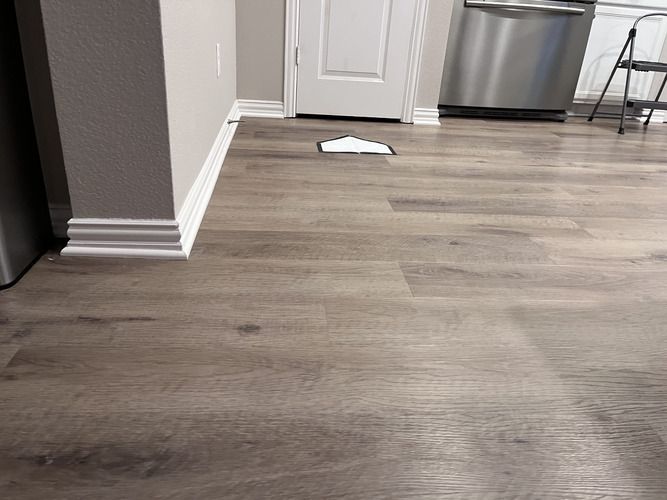homeplate: (316, 135, 396, 155)
